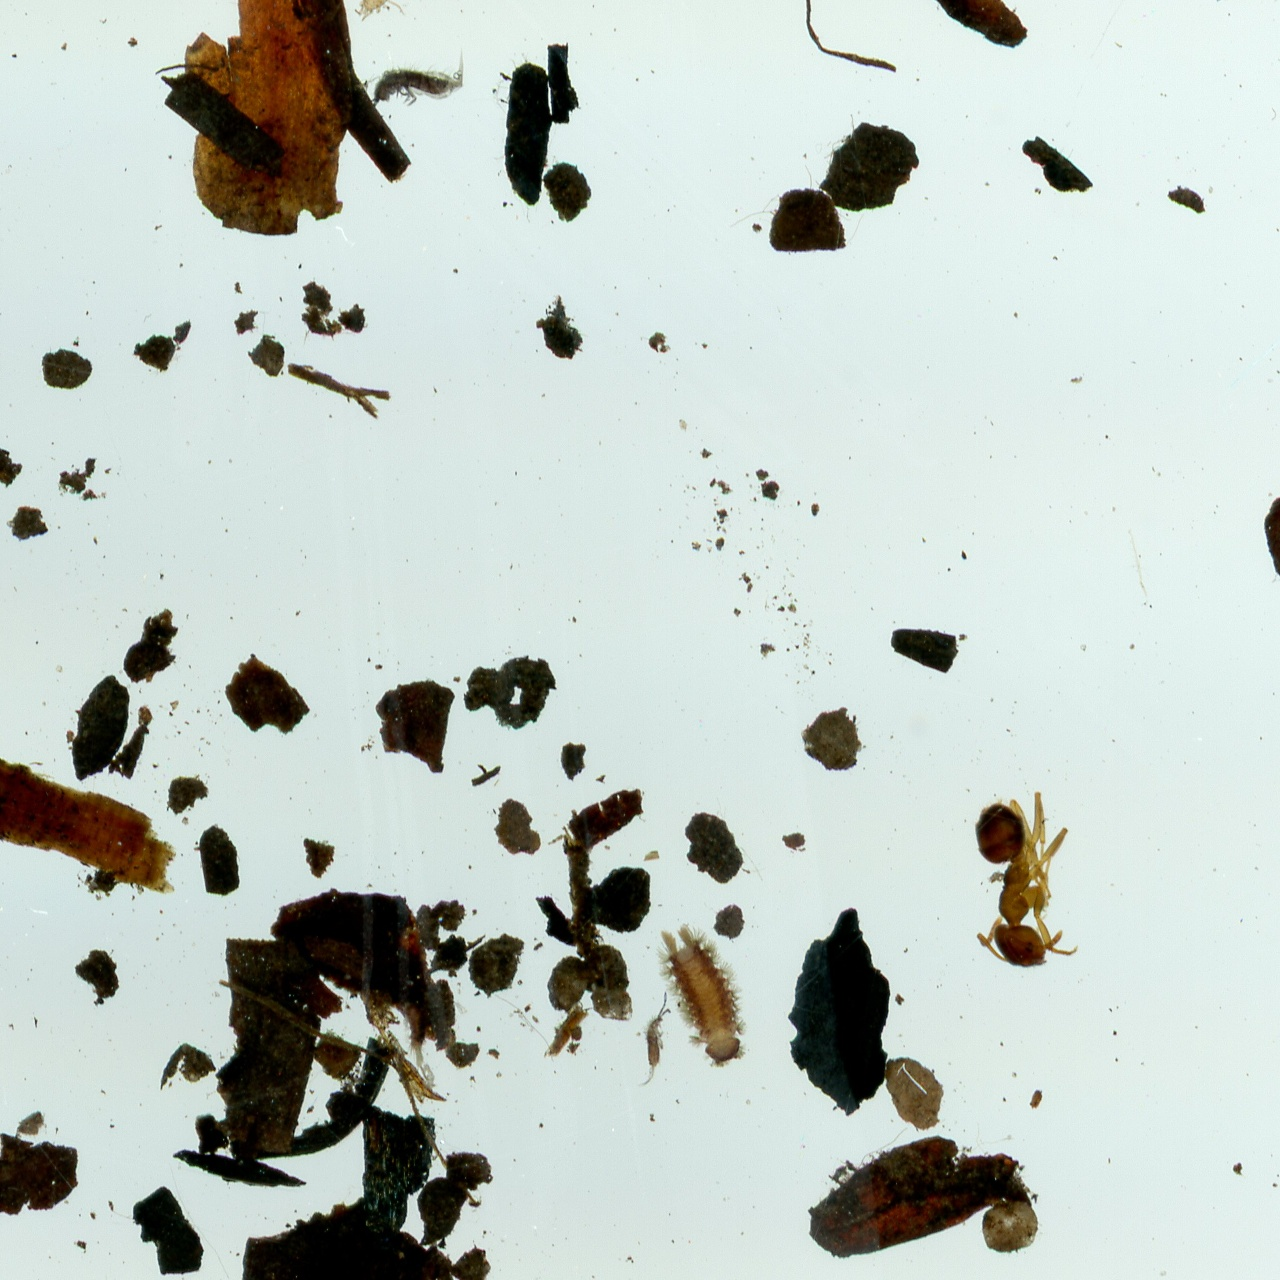arthropod: (639, 904, 775, 1084), (968, 784, 1084, 973), (367, 43, 471, 114), (634, 988, 678, 1089), (349, 0, 410, 23)
